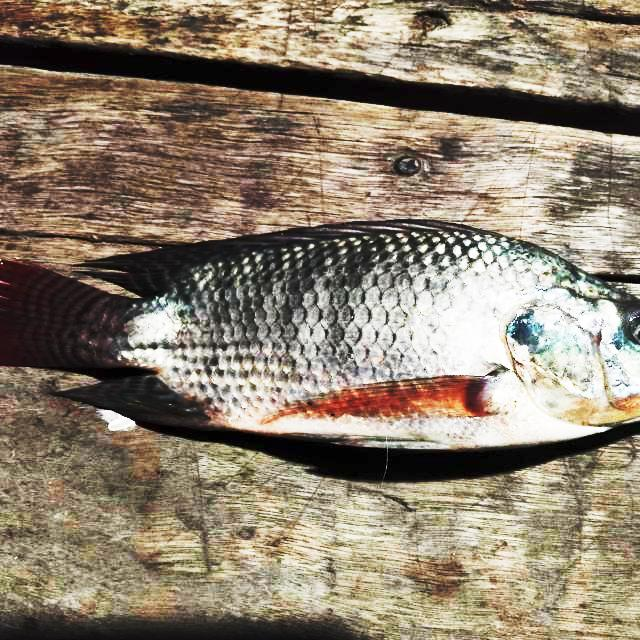Healthy Fish: (0, 220, 639, 451)
